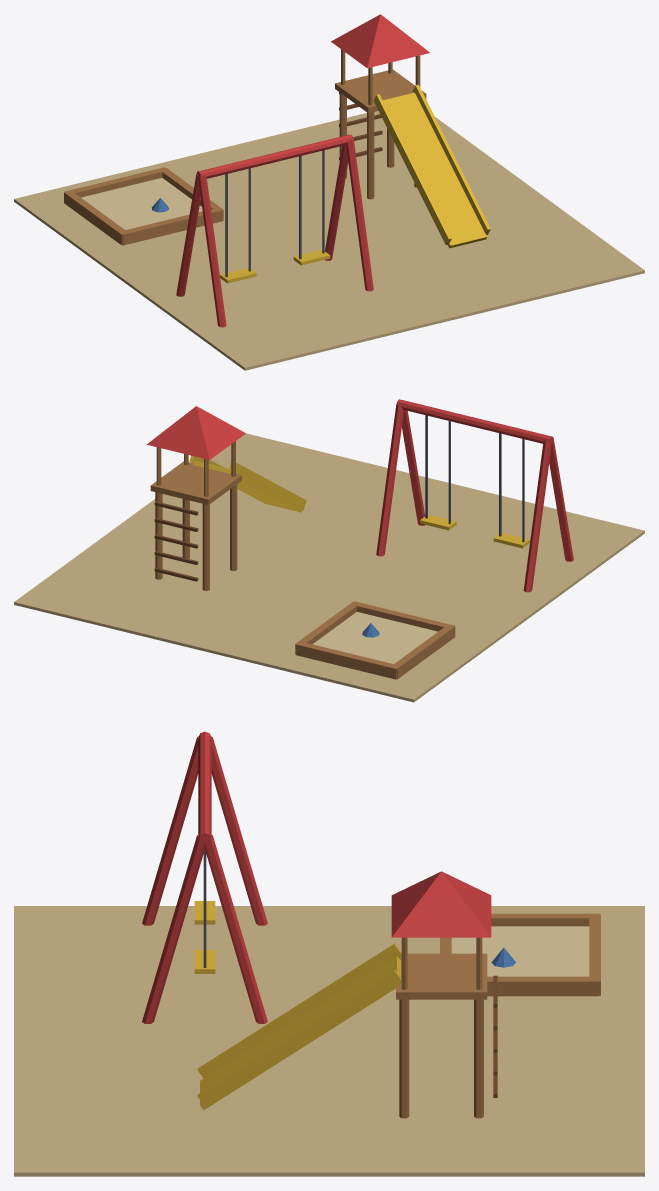
Rendered from playground.gltf.
3 renders of one model, top to bottom at view 1: azimuth 30°, elevation 25°; view 2: azimuth 150°, elevation 25°; view 3: azimuth 270°, elevation 25°, orthographic. The views are drawn at different scales.
Parts seen in each view (by area): view 1: playground; view 2: playground; view 3: playground.
Boxes of the visible parts, x1,y1,x2,y2 form: playground: (14, 14, 644, 370); playground: (14, 399, 644, 702); playground: (14, 731, 644, 1176).
Bounding box in the file's own units: 7.6 × 3.12 × 7.6.
